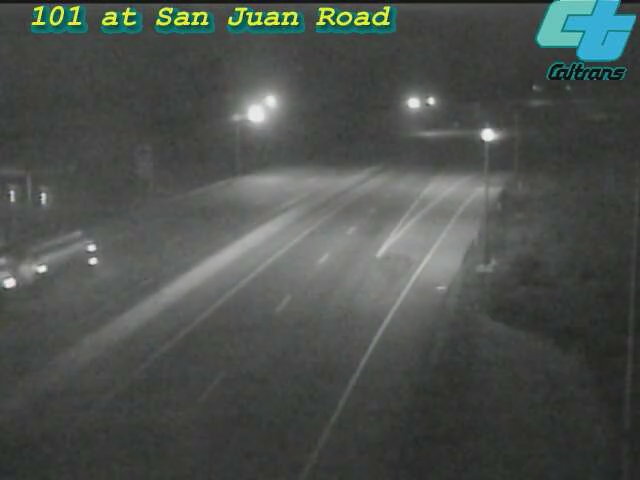vehicle: (1, 226, 69, 306), (463, 109, 513, 159)
